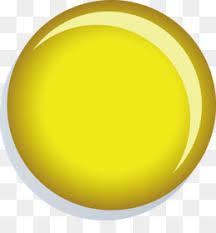yellow_circle: (0, 0, 216, 233)
